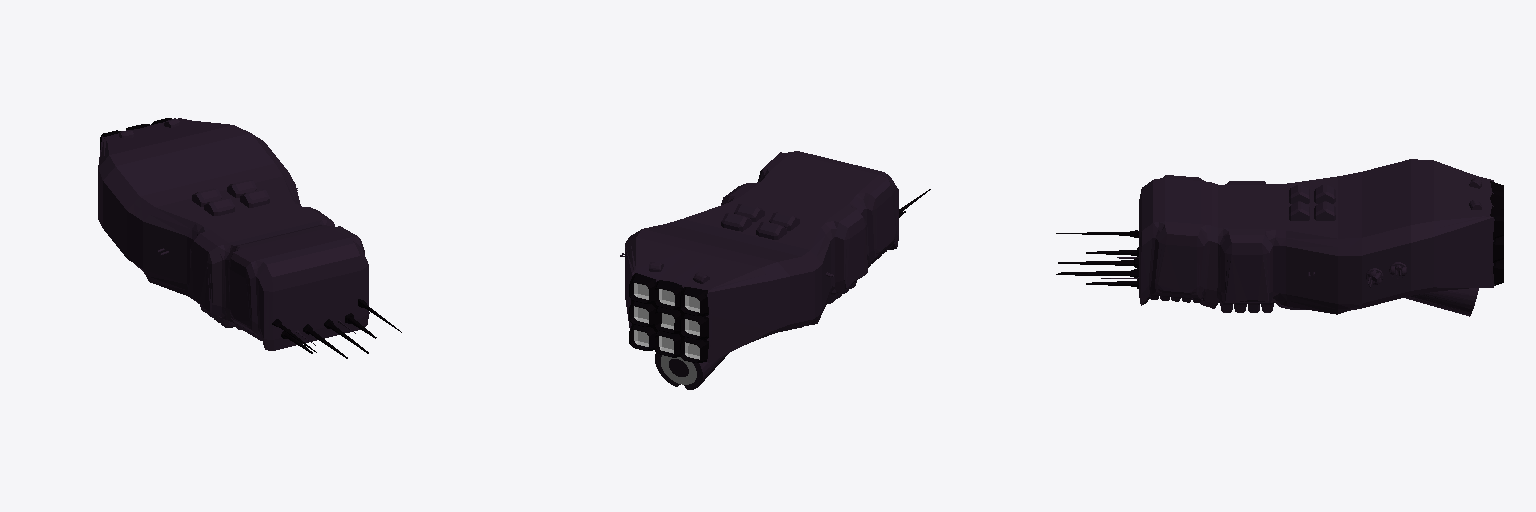
3 renders of one model, left to right at view 1: azimuth 30°, elevation 25°; view 2: azimuth 150°, elevation 25°; view 3: azimuth 270°, elevation 25°, orthographic.
Parts seen in each view (by area): view 1: Spaceship_Mesh.014; view 2: Spaceship_Mesh.014; view 3: Spaceship_Mesh.014.
Boxes of the visible parts, x1,y1,x2,y2 form: Spaceship_Mesh.014: [98, 118, 401, 358]; Spaceship_Mesh.014: [620, 151, 930, 389]; Spaceship_Mesh.014: [1056, 159, 1503, 316].
Size of the model in its own units: 2.27 by 1.52 by 5.01.